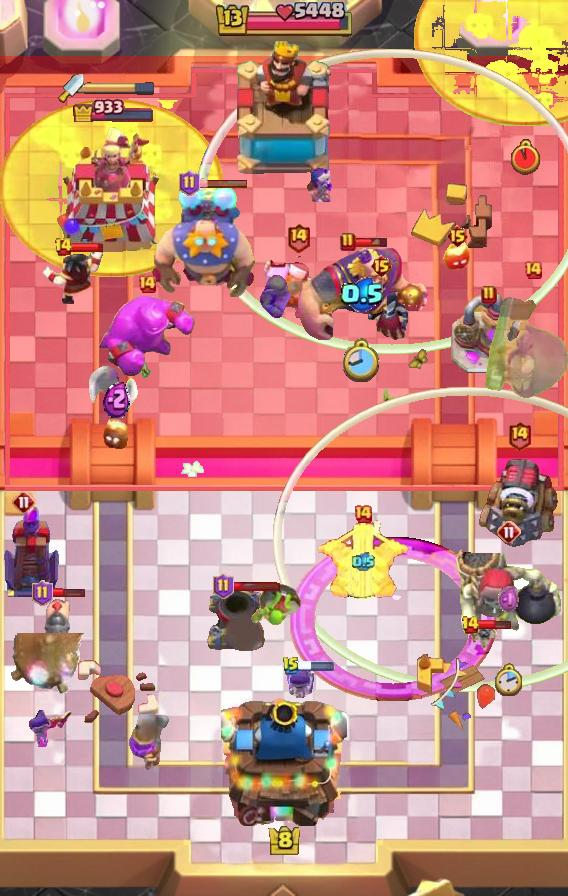bar: (55, 126, 173, 256)
bar-level: (249, 581, 303, 629)
bomb-tower: (128, 709, 170, 773)
bomber: (443, 241, 471, 273), (102, 419, 130, 451)
clock: (213, 2, 355, 40)
clone: (97, 294, 197, 378)
electro-giant: (453, 539, 565, 649)
electro-spirit: (340, 277, 384, 311), (102, 380, 129, 418), (498, 586, 521, 615), (352, 552, 375, 572)
elixir: (343, 338, 381, 384), (511, 139, 540, 175), (495, 663, 524, 698)
emote: (197, 178, 249, 189), (231, 581, 281, 592), (355, 236, 390, 248), (476, 619, 511, 631), (50, 586, 85, 597), (297, 661, 335, 671), (70, 243, 104, 254)
executioner: (41, 592, 73, 650)
goblin: (23, 708, 75, 750), (287, 664, 317, 704), (306, 168, 333, 202)
golem: (478, 456, 560, 550)
heal-spirit: (468, 621, 500, 653)
ice-spirit-evolution-symbol: (0, 503, 62, 599)
king-tower: (221, 690, 347, 826), (228, 41, 340, 181)
king-tower-bar: (84, 81, 156, 95)
knight-evolution: (290, 537, 498, 701)
lava-pup: (314, 520, 412, 602)
lightning: (295, 247, 430, 347)
little-prince: (149, 184, 259, 300)
lumberjack: (41, 247, 107, 305)
mighty-miner: (263, 256, 333, 318)
musketeer: (205, 586, 267, 654)
pekka: (450, 293, 528, 375)
phoenix-egg: (0, 99, 224, 276), (414, 0, 568, 126)
rascal-boy: (350, 278, 412, 344)
royal-giant: (88, 366, 142, 426)
selected: (72, 96, 156, 122)
text: (286, 223, 311, 253), (508, 420, 532, 451), (12, 490, 36, 514), (497, 520, 521, 544), (179, 170, 201, 196), (446, 224, 469, 248), (370, 254, 393, 278), (213, 573, 234, 599), (32, 580, 53, 606), (54, 237, 74, 257), (523, 260, 543, 280), (137, 274, 157, 294), (353, 504, 373, 524), (461, 615, 480, 635), (282, 656, 300, 676), (340, 232, 356, 252), (481, 285, 497, 305)
wall-breaker-evolution: (484, 283, 568, 401)
x-bow: (7, 632, 89, 695)
zap: (254, 275, 294, 319)
